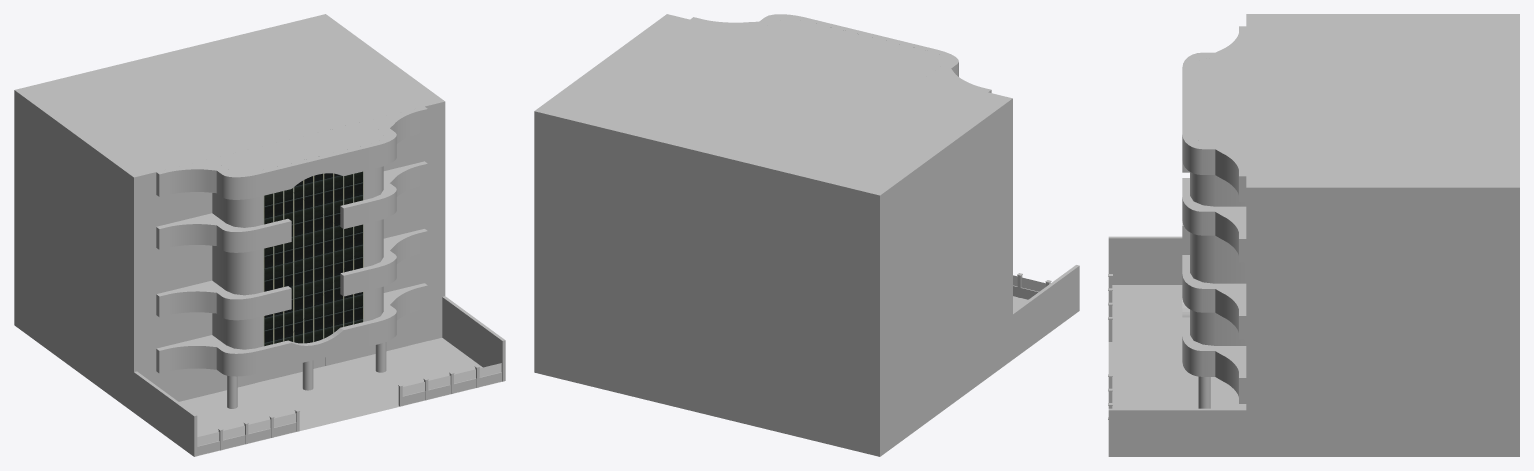
3 renders of one model, left to right at view 1: azimuth 30°, elevation 25°; view 2: azimuth 150°, elevation 25°; view 3: azimuth 270°, elevation 25°, orthographic. The views are drawn at different scales.
Visible parts, largest first — view 1: BC-068; view 2: BC-068; view 3: BC-068.
Part boxes in pixels (<box>): BC-068: <box>14,14,505,456</box>; BC-068: <box>534,14,1079,456</box>; BC-068: <box>1108,14,1519,456</box>.
Size of what is drawn, in the model's own units: 36 by 26 by 36.05.
